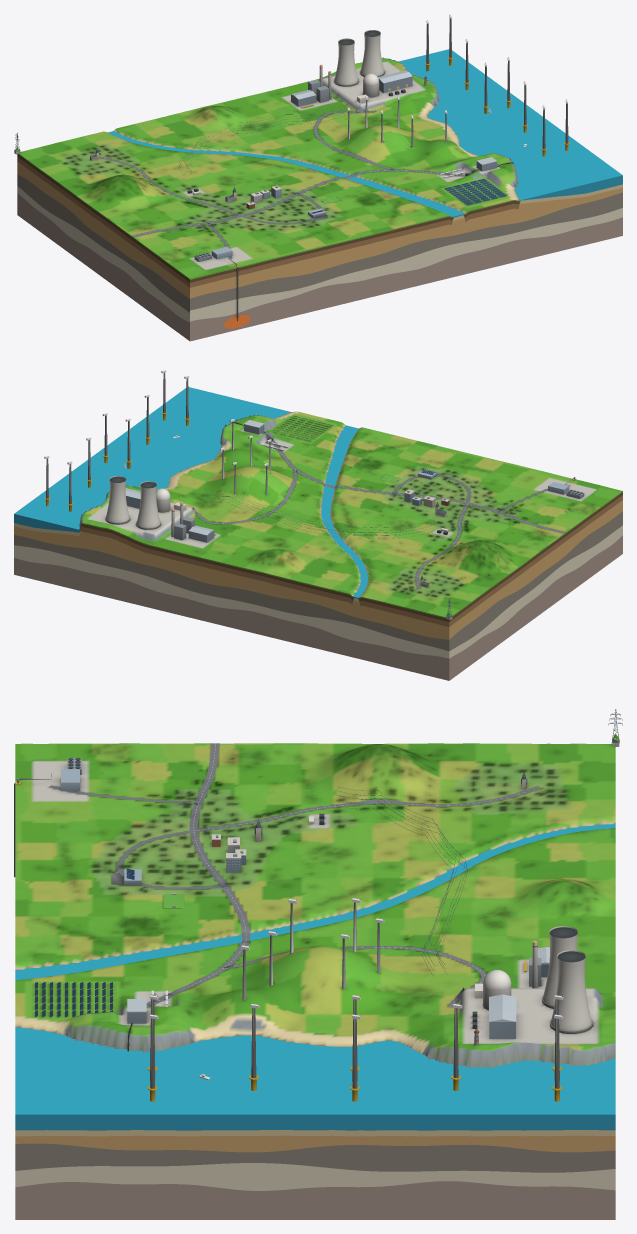
The model's file is island.glb.
3 renders of one model, top to bottom at view 1: azimuth 30°, elevation 25°; view 2: azimuth 150°, elevation 25°; view 3: azimuth 270°, elevation 25°, orthographic. The views are drawn at different scales.
Visible parts, largest first — view 1: terrain, sides, sea, static; view 2: terrain, sides, sea, static; view 3: terrain, sides, sea, static.
Part boxes in pixels (left/top/right/bottom): terrain: left=18, top=57, right=519, bottom=278; sides: left=17, top=153, right=622, bottom=341; sea: left=108, top=49, right=622, bottom=216; static: left=90, top=15, right=569, bottom=321; terrain: left=79, top=411, right=622, bottom=617; sides: left=14, top=491, right=622, bottom=680; sea: left=14, top=387, right=367, bottom=597; static: left=44, top=370, right=584, bottom=589; terrain: left=15, top=743, right=615, bottom=1067; sides: left=15, top=1114, right=615, bottom=1219; sea: left=15, top=823, right=615, bottom=1114; static: left=14, top=743, right=592, bottom=1101.
Bounding box in the file's own units: 1106 × 267 × 771.
